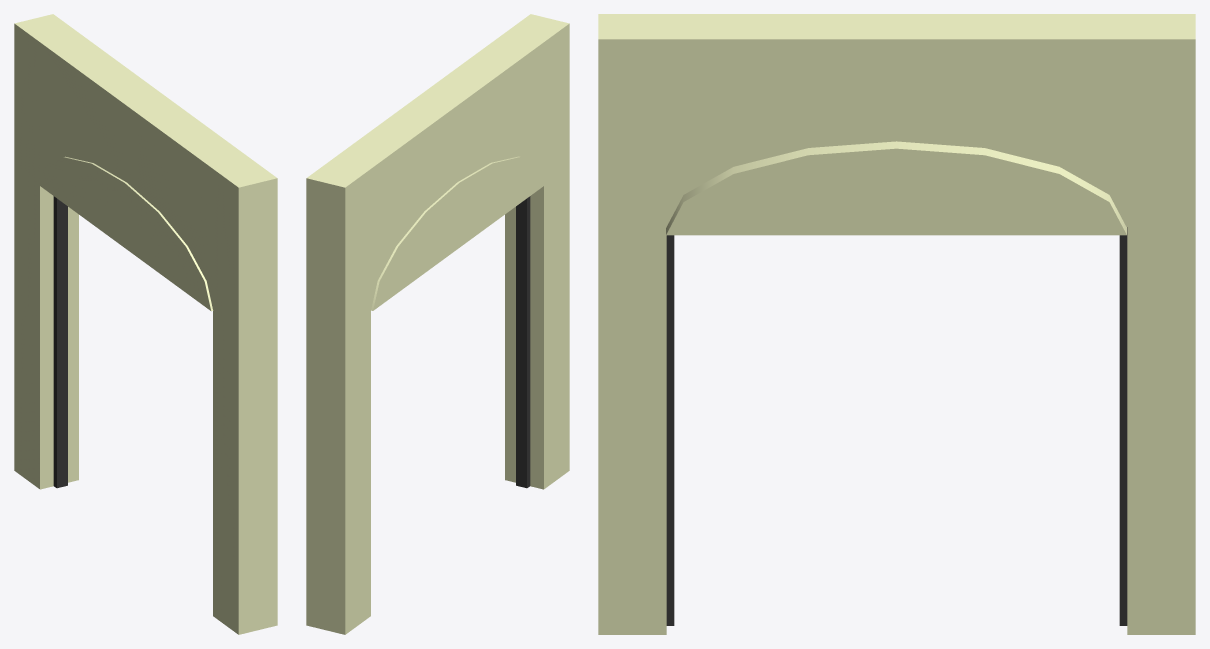
The model's file is SM_DoorWall.fbx.
The picture shows the model from 3 angles, left to right: view 1: azimuth 30°, elevation 25°; view 2: azimuth 150°, elevation 25°; view 3: azimuth 270°, elevation 25°; orthographic projection. The views are drawn at different scales.
Visible parts, largest first — view 1: SM_Doorpost1; view 2: SM_Doorpost1; view 3: SM_Doorpost1.
Boxes of the visible parts, bbox=[...] form: SM_Doorpost1: bbox=[14, 14, 277, 634]; SM_Doorpost1: bbox=[306, 14, 569, 634]; SM_Doorpost1: bbox=[598, 14, 1195, 634].
Bounding box in the file's own units: 0.00267 × 0.022 × 0.02.
